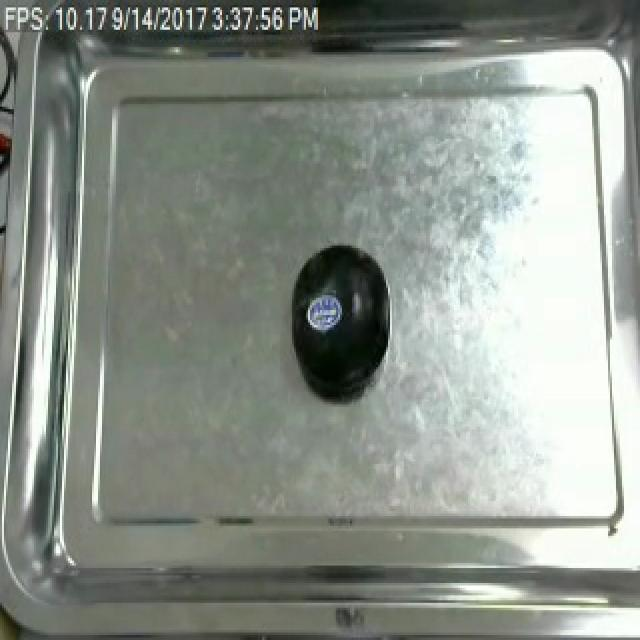Fruit: (284, 238, 394, 397)
